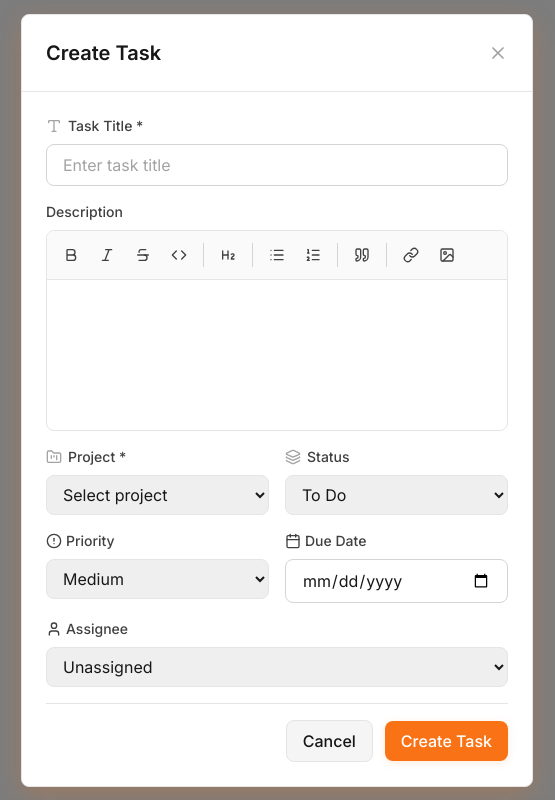
TaskModal › Create Mode › should display error message when save fails
Type "New Task" into the field labelled "Task Title *" at (277, 164), box [46,144,508,186]
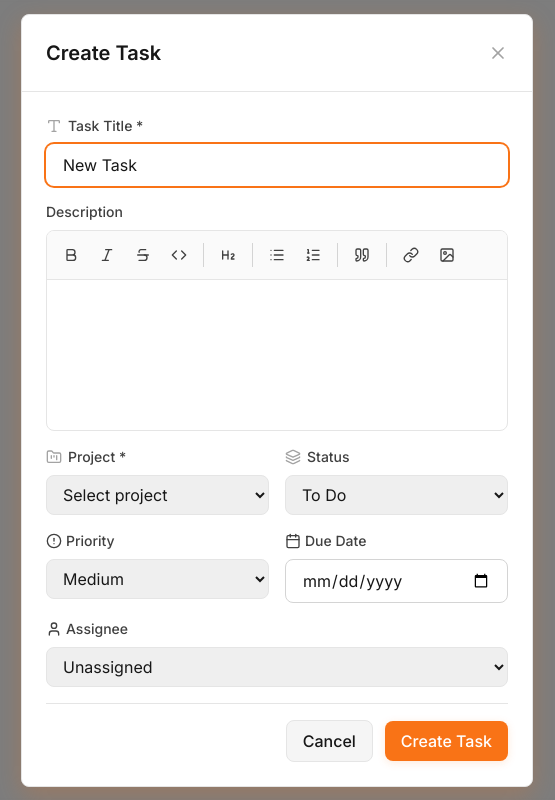
Select "Project Alpha" in the dropdown labelled "Project *" at (158, 494), box [46,474,269,514]
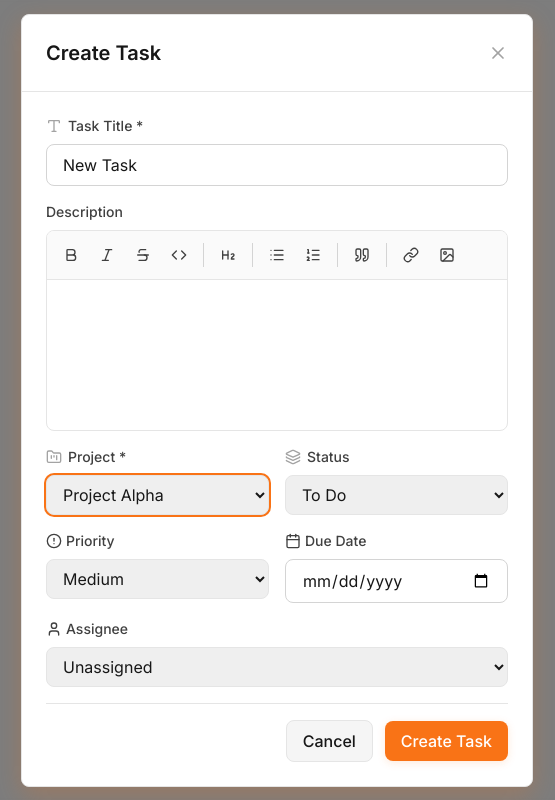
Click the button "Create Task" at (446, 740), box [385,720,508,760]
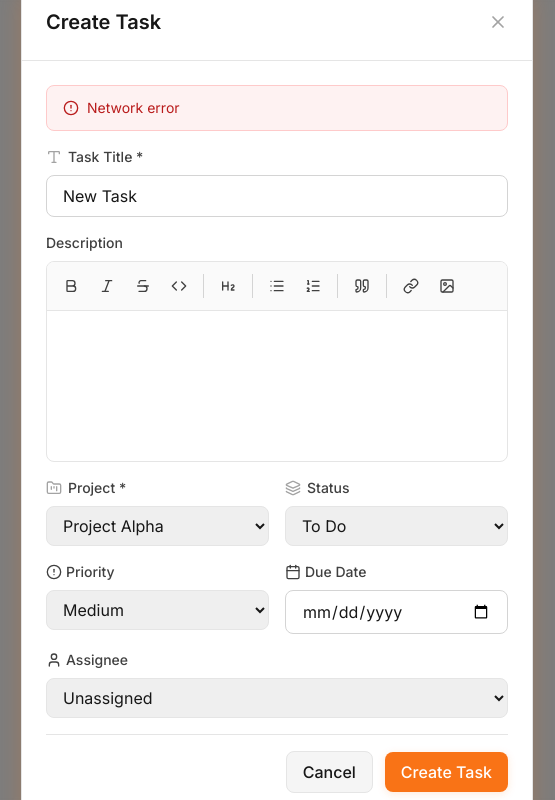
Check: the text "Network error" is shown, box [46,84,508,130]
